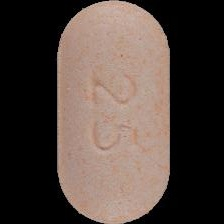51655-091: (0, 0, 224, 224)
